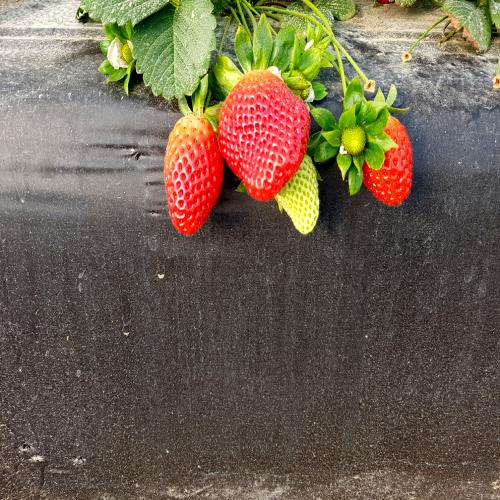ripe: (219, 66, 317, 207), (156, 98, 228, 238), (359, 100, 418, 216)
